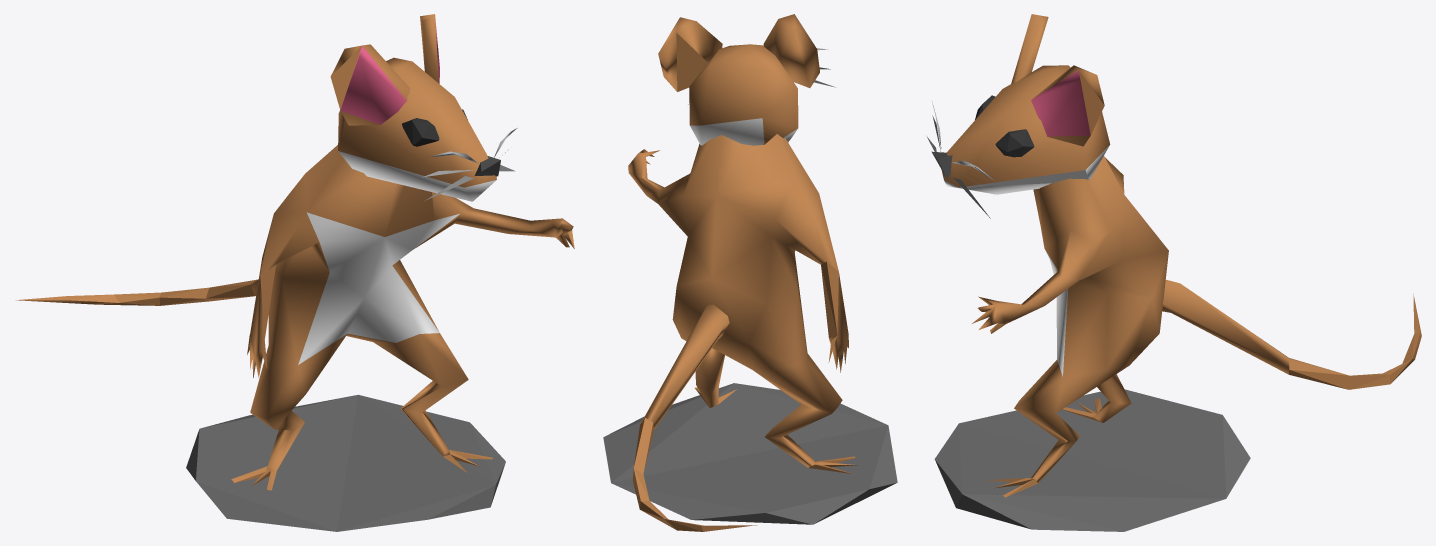
File: WhiskersLOD2.glb
3 renders of one model, left to right at view 1: azimuth 30°, elevation 25°; view 2: azimuth 150°, elevation 25°; view 3: azimuth 270°, elevation 25°, orthographic. The views are drawn at different scales.
Visible parts, largest first — view 1: WhiskersLOD2; view 2: WhiskersLOD2; view 3: WhiskersLOD2.
Part boxes in pixels (x1=…): WhiskersLOD2: x1=15, y1=14, x2=574, y2=531; WhiskersLOD2: x1=603, y1=14, x2=897, y2=531; WhiskersLOD2: x1=927, y1=14, x2=1421, y2=531.
Size of the model in its own units: 1.51 by 1.89 by 1.89.
